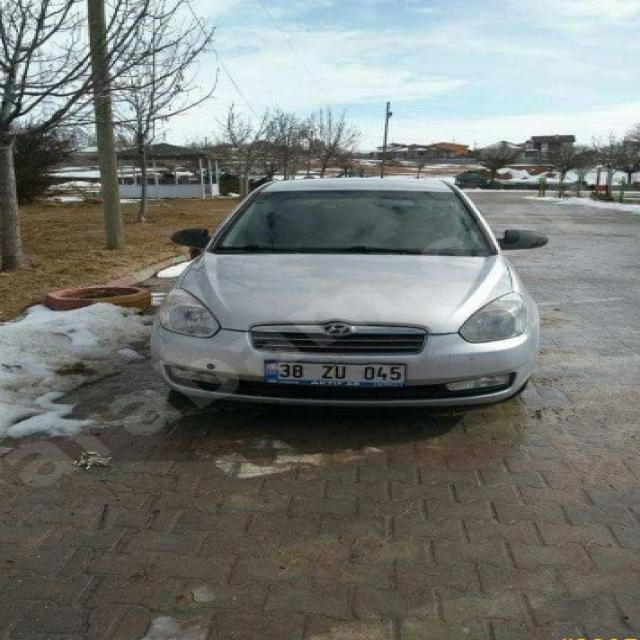license_plate: (264, 361, 404, 381)
